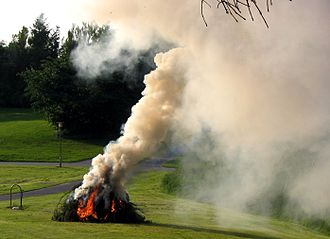smoke: (66, 1, 330, 184)
